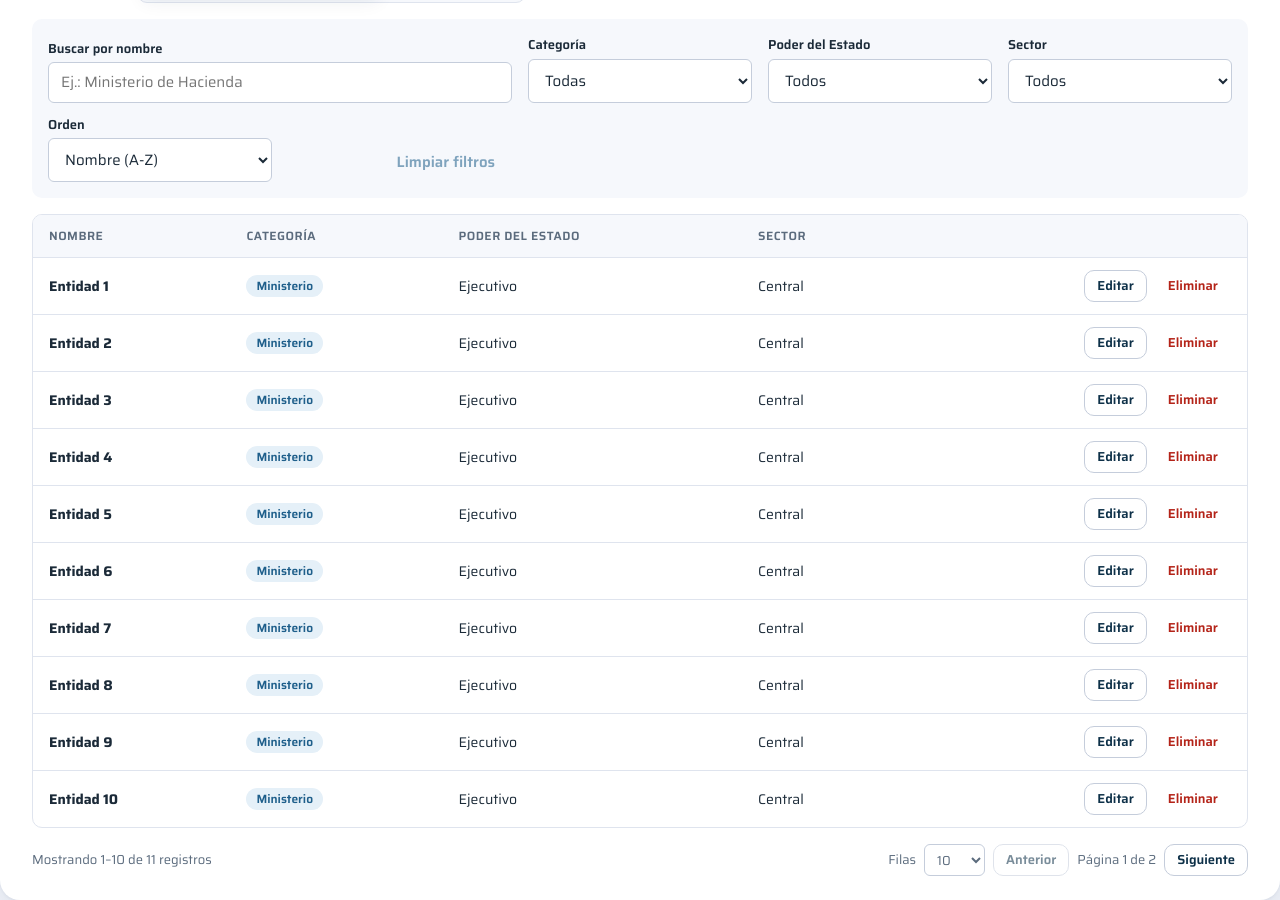
it: GovernmentEntityListPage › vuelve a la página anterior al eliminar el único registro de la última página
The width and height of the screenshot is (1280, 900).
(page scrolled)
Click the button "Siguiente".
click(1206, 860)  # box [1164,844,1248,876]
(page scrolled)
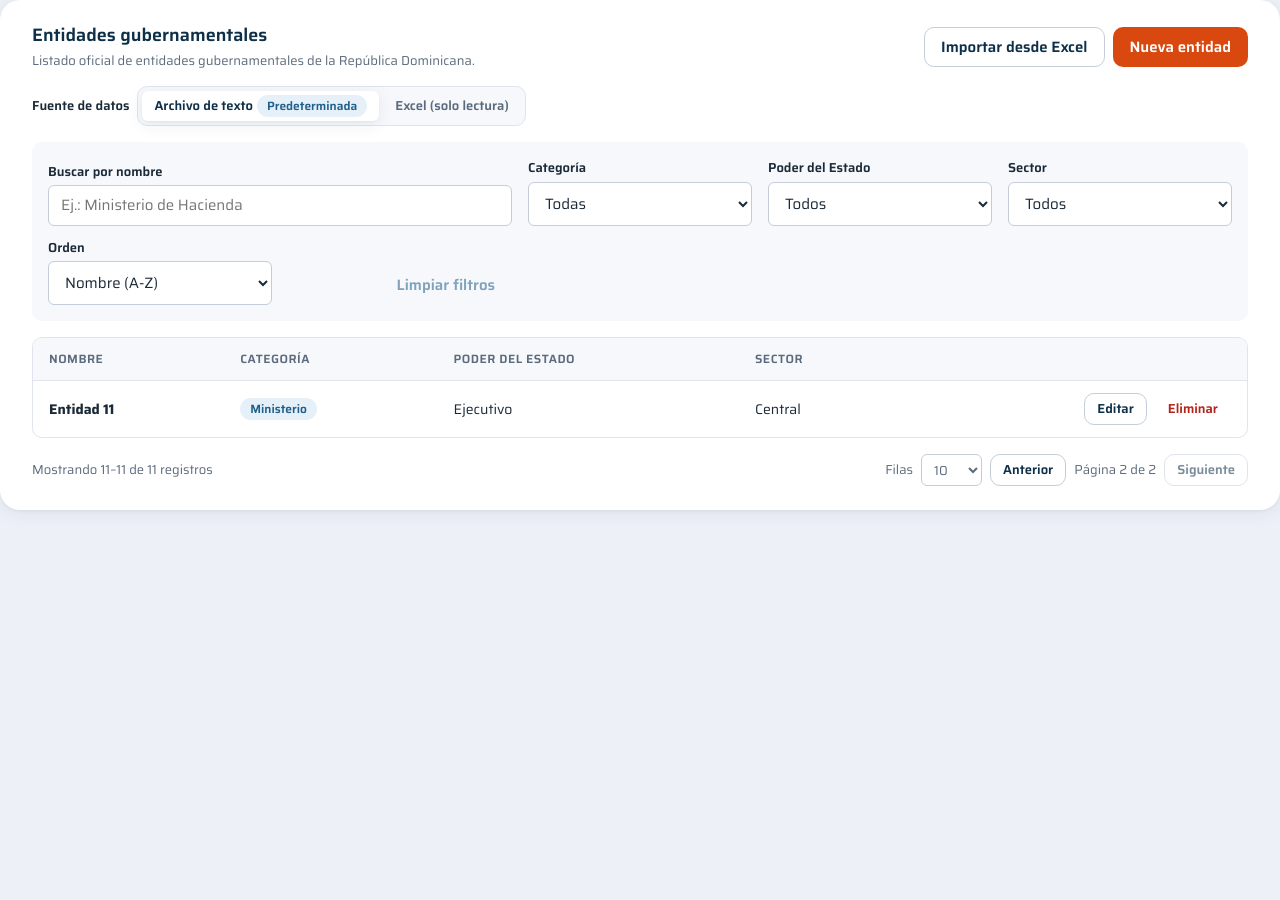
Click the button "Eliminar".
click(1193, 409)  # box [1155,393,1231,425]
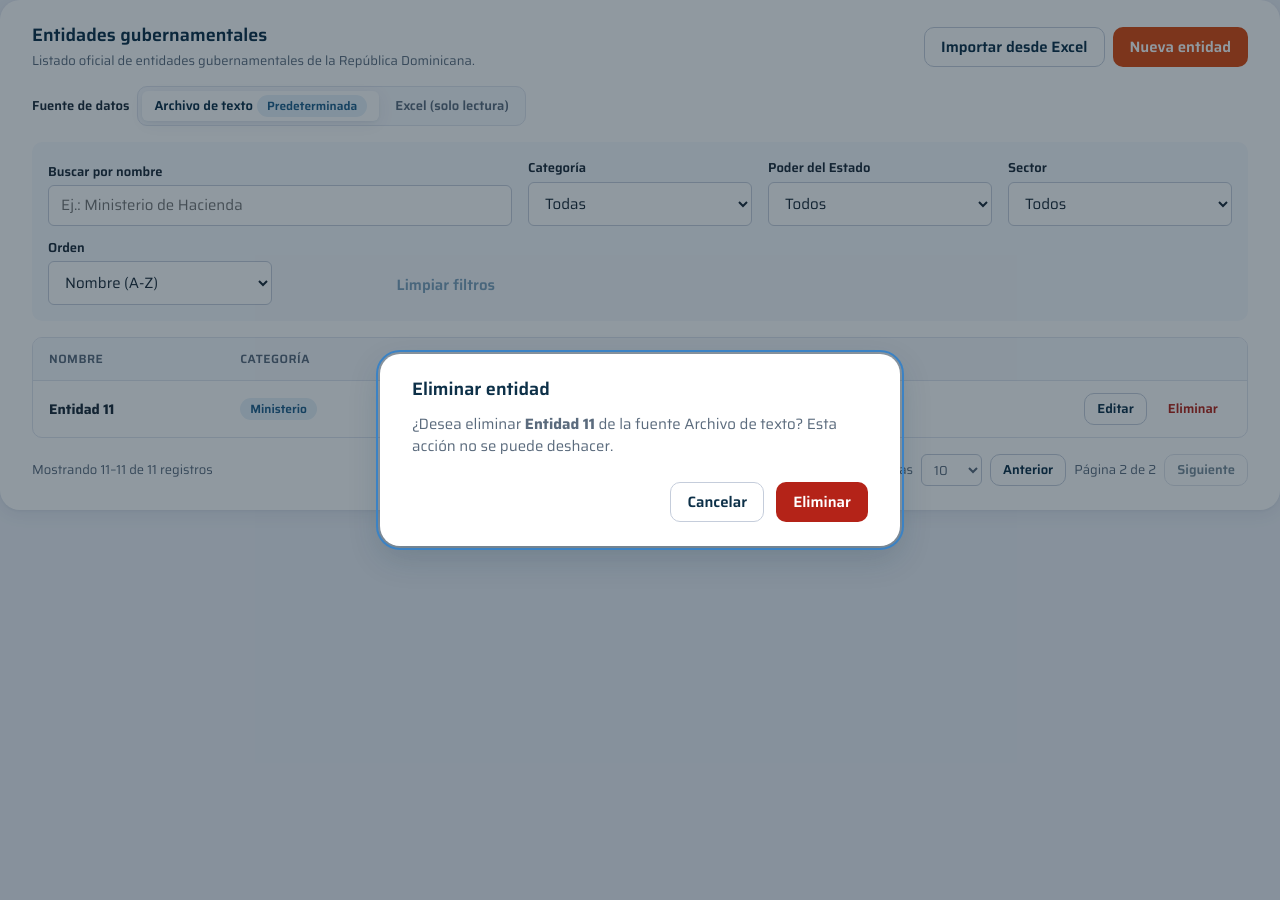
Click the button "Eliminar".
click(822, 502)  # box [776,482,868,522]
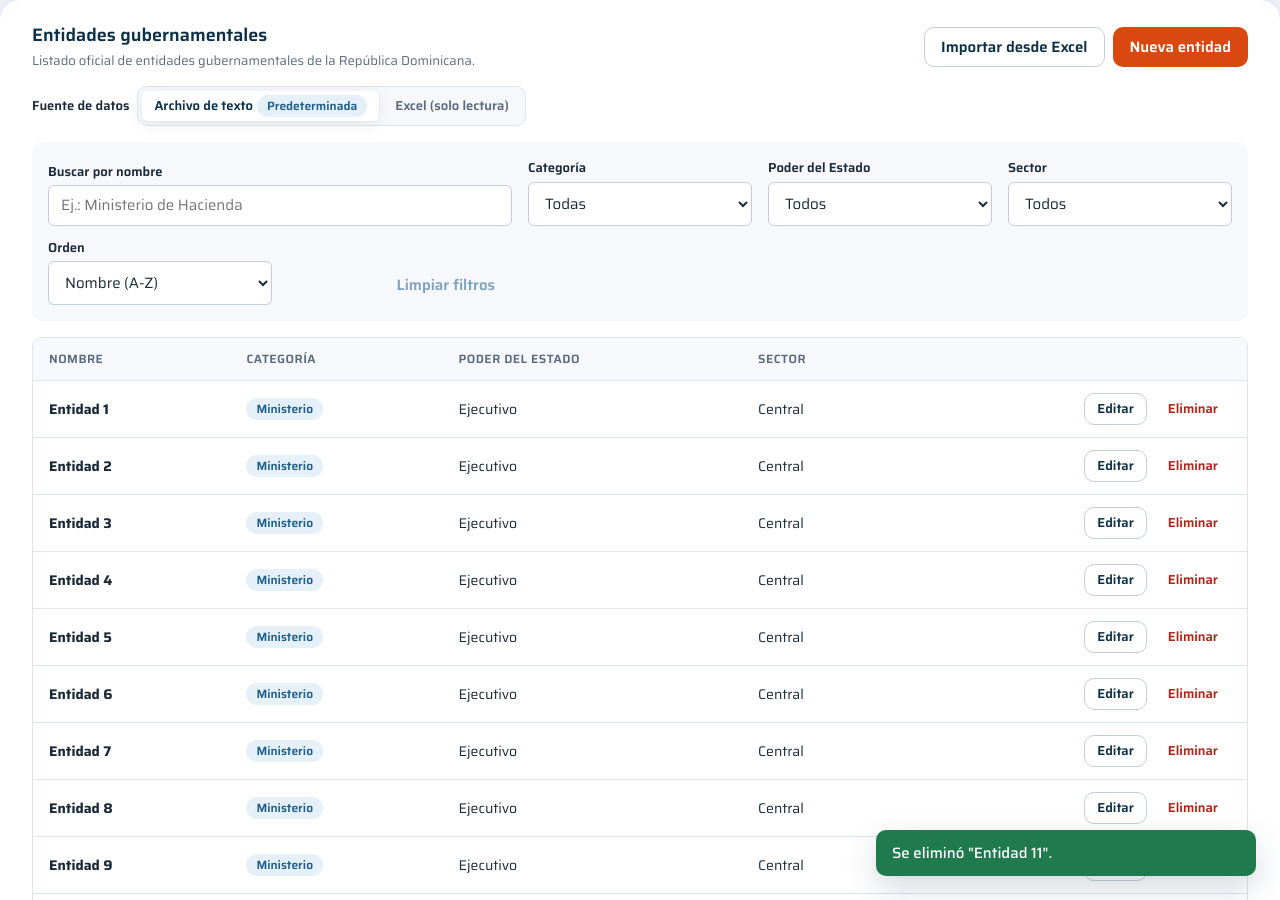
Check: the text "Entidad 1" is shown, box [49,398,109,420]
